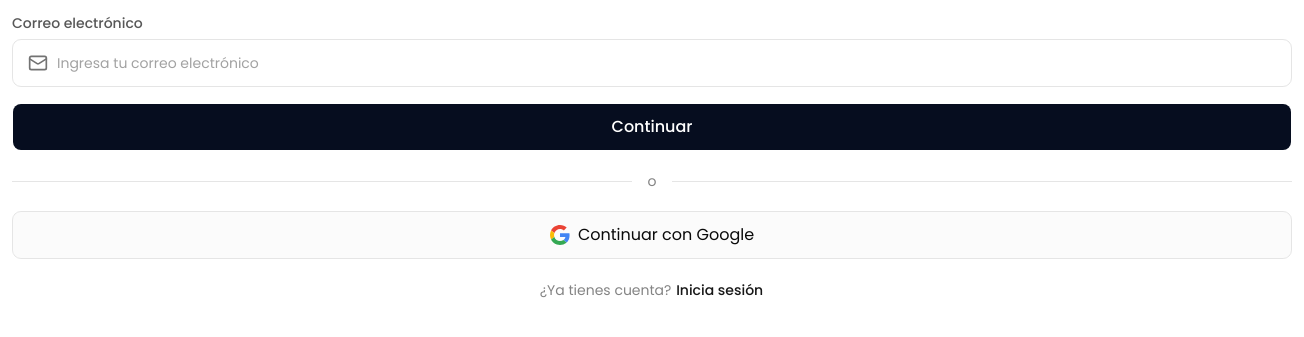
Test: submitting › sign-up does not advance on an invalid address
In the field labelled "Correo electrónico": (652, 63) [12,39,1292,87], type "no-es-correo"
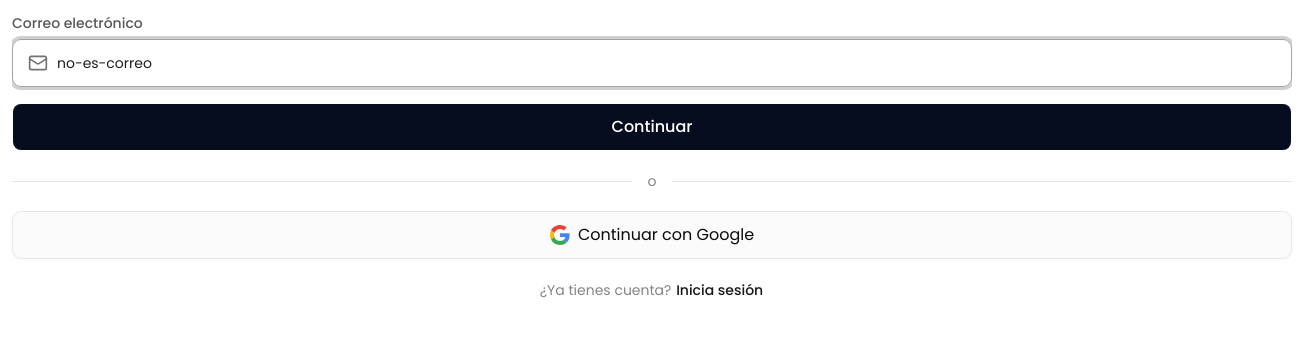
Click the button "Continuar": (652, 127) [12,103,1292,151]
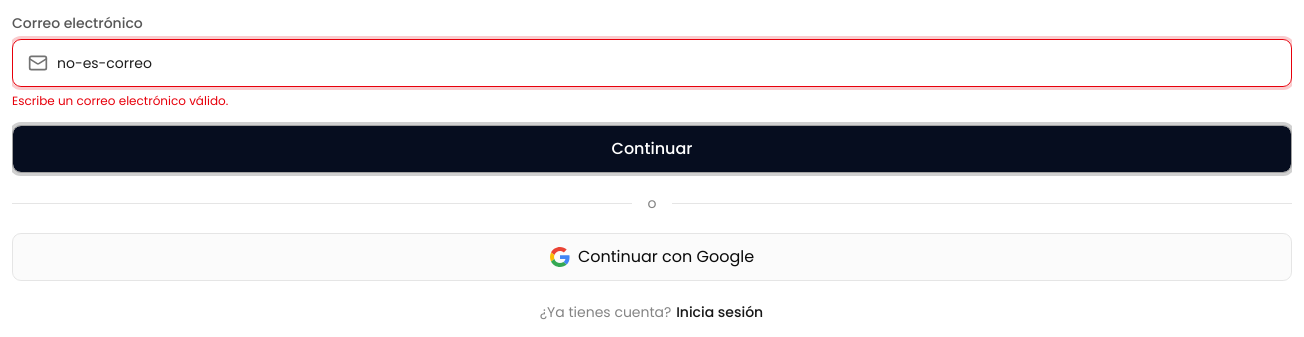
Check: the text "Escribe un correo electrónico válido." is shown, box [12,92,228,109]
